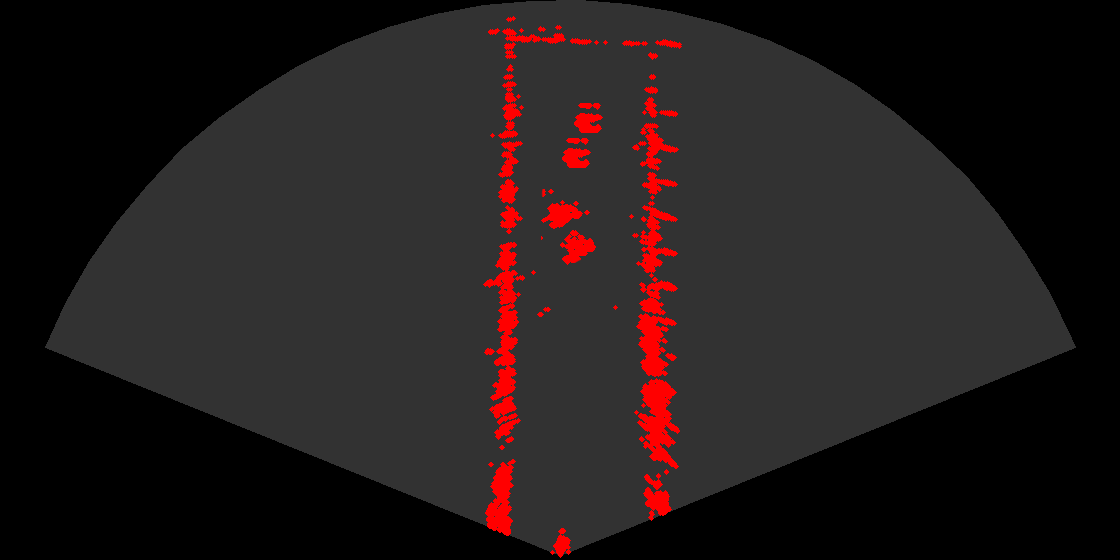ball: (542, 130, 602, 171), (554, 95, 614, 136)
cage: (541, 189, 604, 273)
